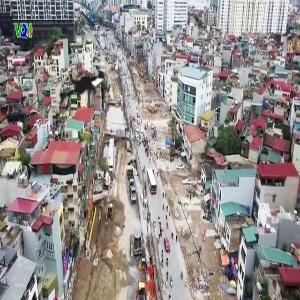drone: (42, 50, 127, 135)
